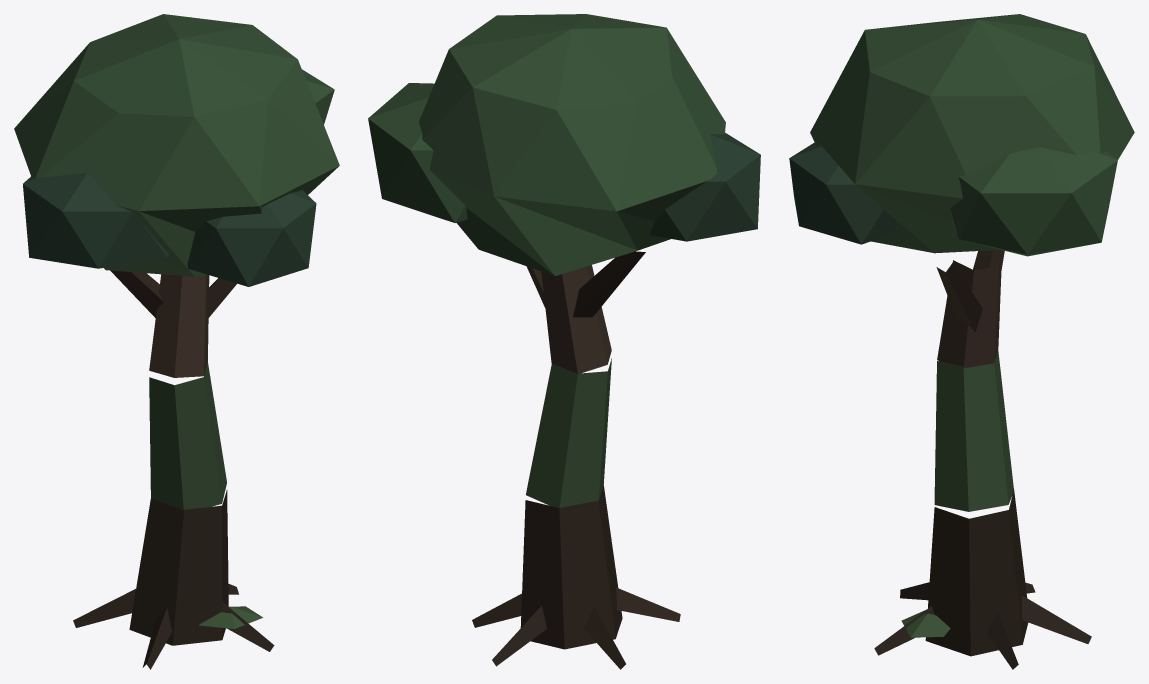
Rendered from tree_oak_old.glb.
3 renders of one model, left to right at view 1: azimuth 30°, elevation 25°; view 2: azimuth 150°, elevation 25°; view 3: azimuth 270°, elevation 25°, orthographic. The views are drawn at different scales.
Visible parts, largest first — view 1: tree_oak_old_Crown, tree_oak_old; view 2: tree_oak_old_Crown, tree_oak_old; view 3: tree_oak_old_Crown, tree_oak_old.
Part boxes in pixels (x1,y1,x2,y2): tree_oak_old_Crown: (14,14,339,286); tree_oak_old: (73,270,274,669); tree_oak_old_Crown: (368,14,760,275); tree_oak_old: (472,251,680,669); tree_oak_old_Crown: (789,14,1134,256); tree_oak_old: (874,250,1091,669).
Size of the model in its own units: 2.34 by 4.07 by 2.08.
